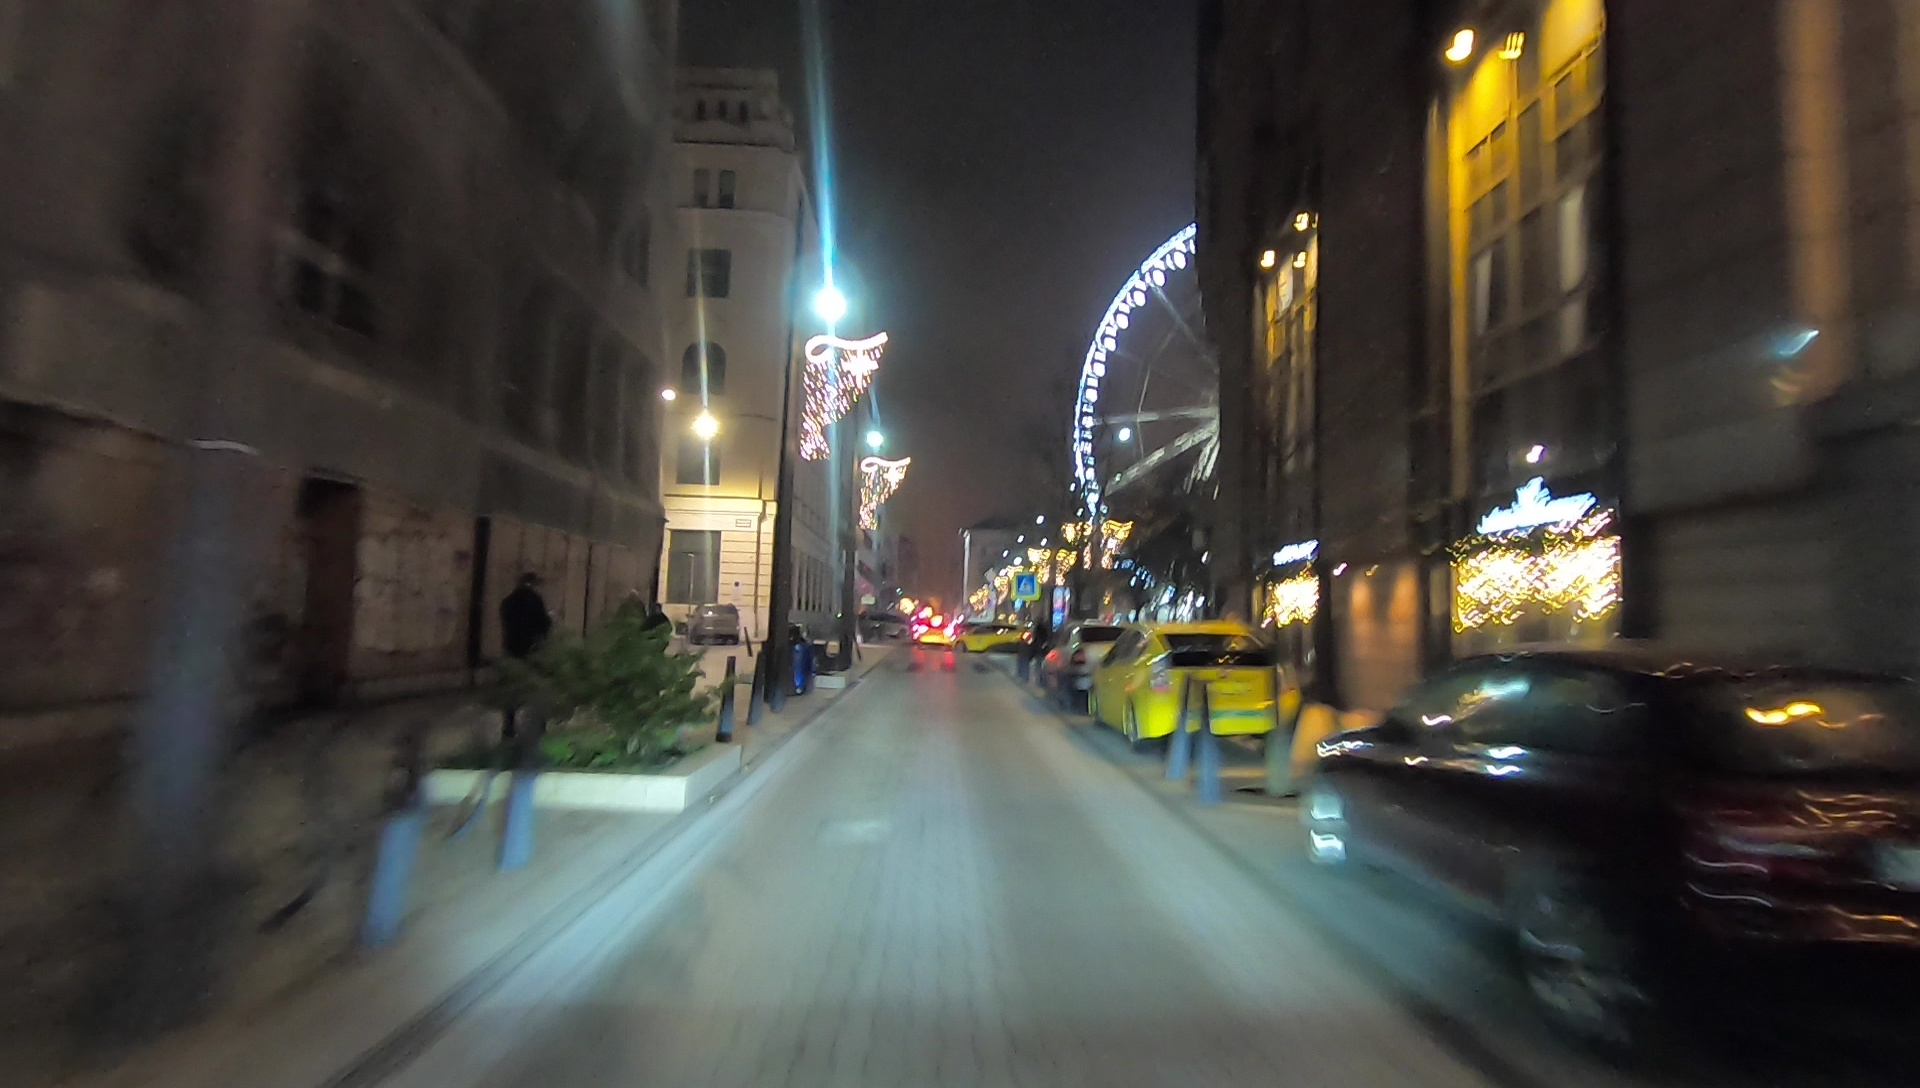person: (497, 569, 552, 732), (639, 600, 675, 693), (619, 595, 641, 689)
